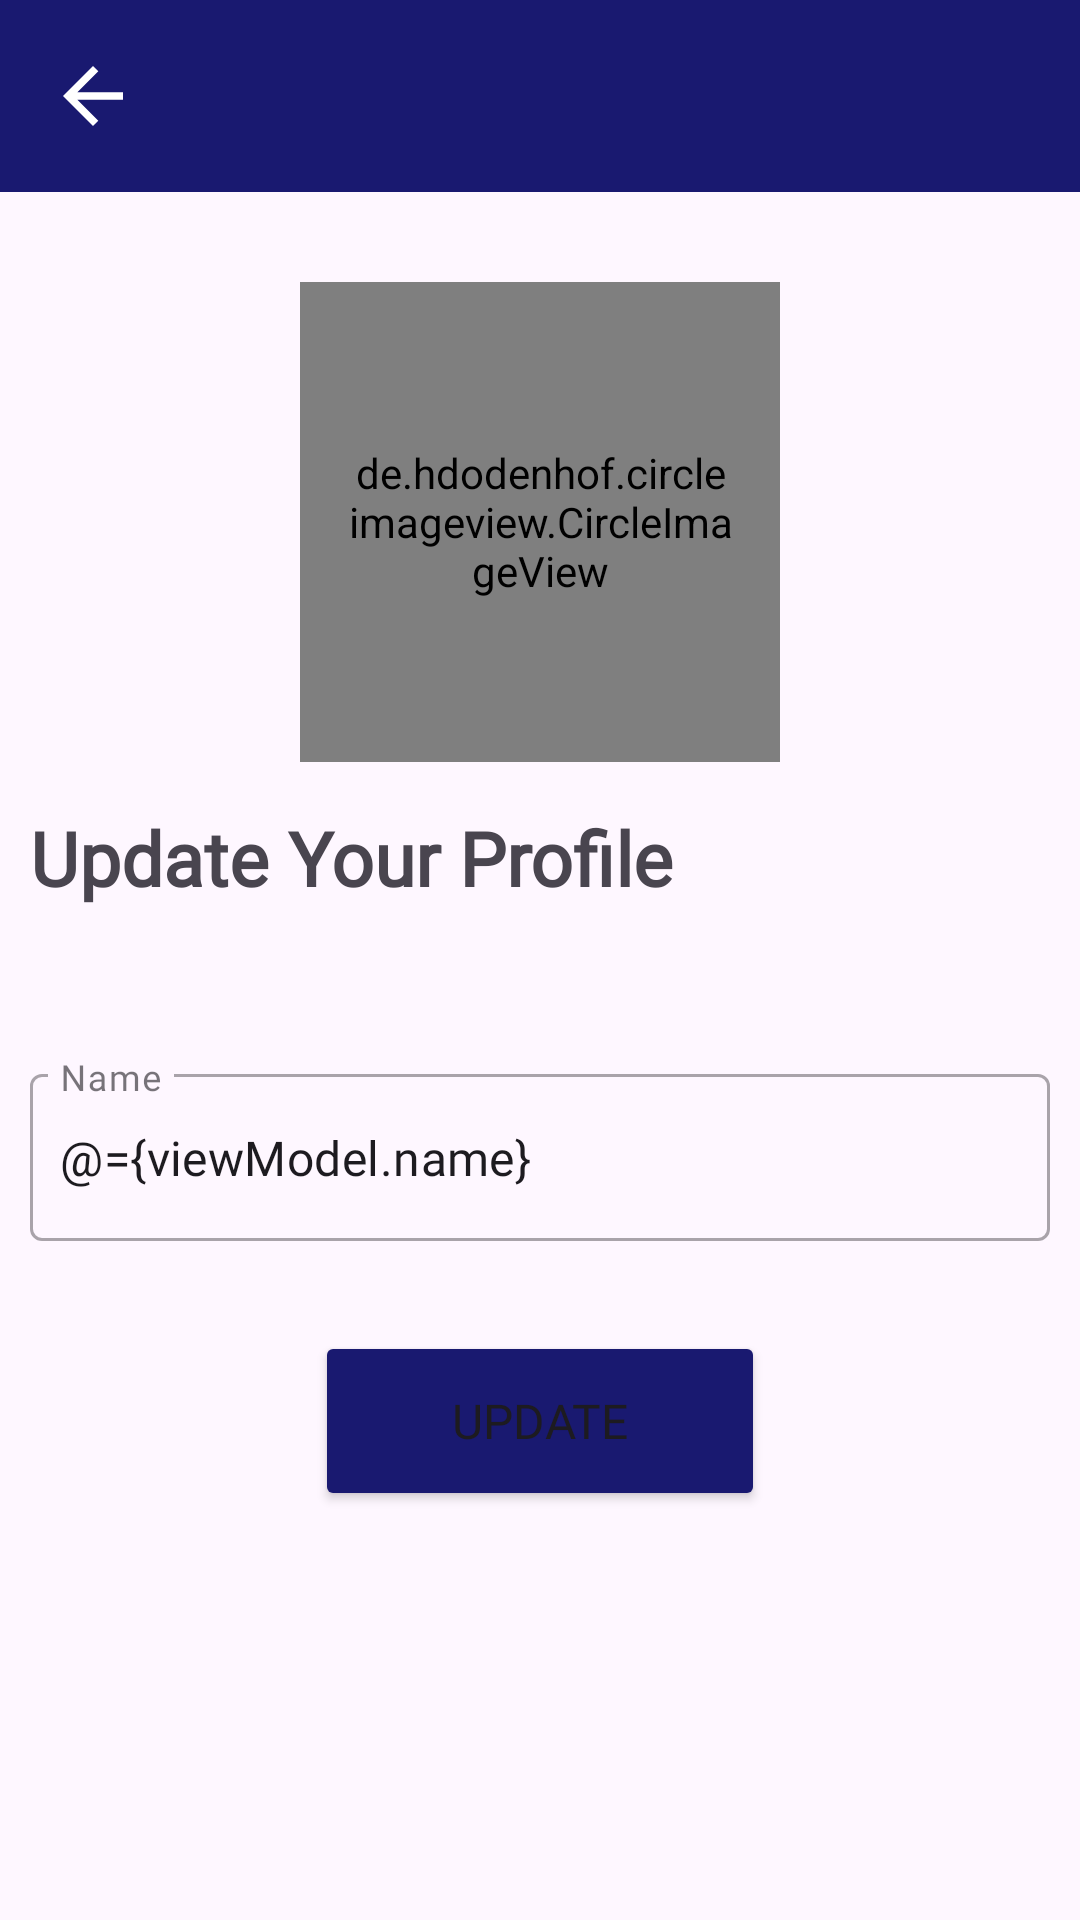

Icon bounding boxes for this 1080w x 1920h phone screenshot, format (x1, y1, x2, y2):
back: (63, 66, 123, 126)
